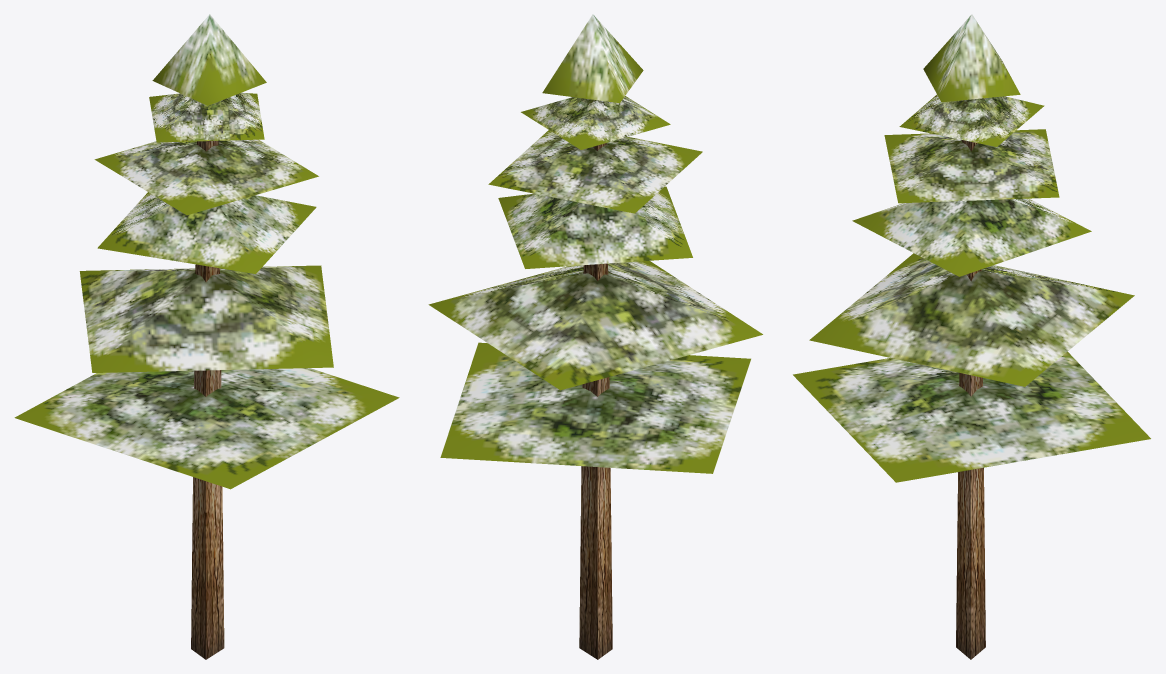
The model's file is pine_snow_base.glb.
The picture shows the model from 3 angles, left to right: view 1: azimuth 30°, elevation 25°; view 2: azimuth 150°, elevation 25°; view 3: azimuth 270°, elevation 25°; orthographic projection.
Parts seen in each view (by area): view 1: MeshRoot; view 2: MeshRoot; view 3: MeshRoot.
Boxes of the visible parts, <box> form: MeshRoot: <box>14,14,399,659</box>; MeshRoot: <box>428,14,762,659</box>; MeshRoot: <box>793,14,1150,659</box>.
Size of the model in its own units: 5.09 by 10 by 5.09.
Materials: 1 (1 with a texture image).
